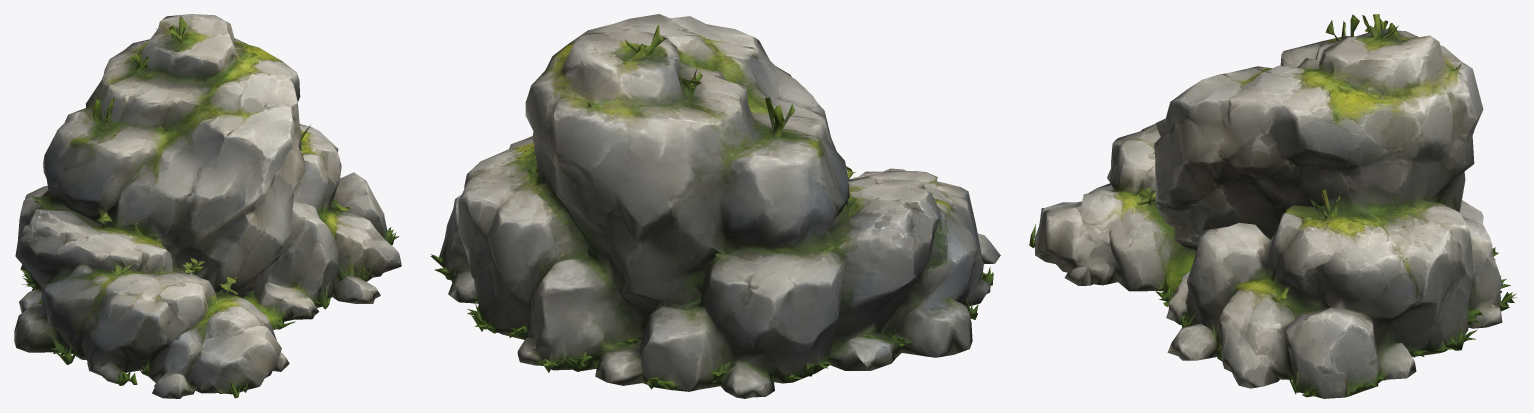
The picture shows the model from 3 angles, left to right: view 1: azimuth 30°, elevation 25°; view 2: azimuth 150°, elevation 25°; view 3: azimuth 270°, elevation 25°; orthographic projection. The views are drawn at different scales.
Parts seen in each view (by area): view 1: tripo_node_6d880efd-1959-4314-8e0e-434172d528aa; view 2: tripo_node_6d880efd-1959-4314-8e0e-434172d528aa; view 3: tripo_node_6d880efd-1959-4314-8e0e-434172d528aa.
Boxes of the visible parts, x1,y1,x2,y2 form: tripo_node_6d880efd-1959-4314-8e0e-434172d528aa: (14,14,401,398); tripo_node_6d880efd-1959-4314-8e0e-434172d528aa: (430,14,1000,398); tripo_node_6d880efd-1959-4314-8e0e-434172d528aa: (1029,14,1517,398).
Bounding box in the file's own units: 0.9803 × 0.5741 × 0.8987.
Materials: 1 (1 with a texture image).
